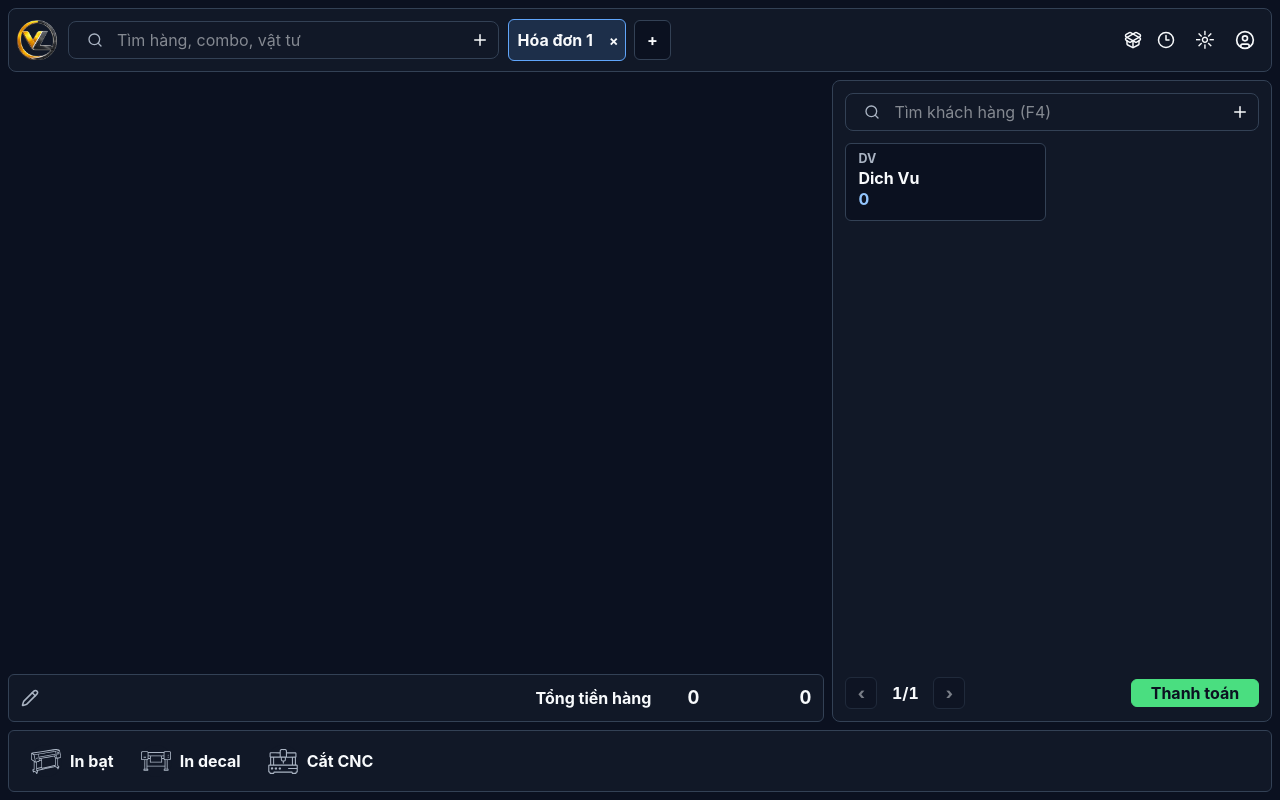
Test: hides placeholder unit text from POS cart lines
Click the button "DV Dich Vu 0": (946, 182) 845,143 -> 1046,221
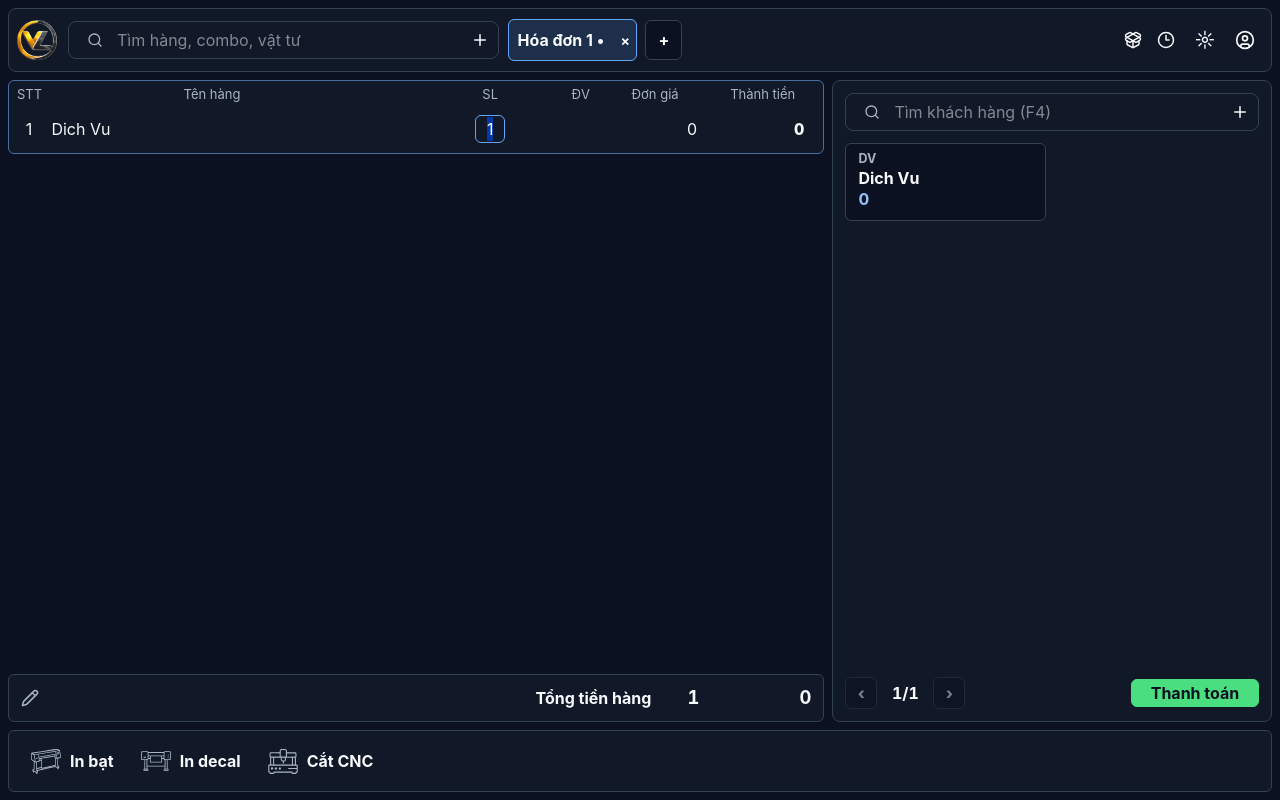
Expected: the text "Dich Vu" below "STT" is shown, 51,118 -> 110,138
